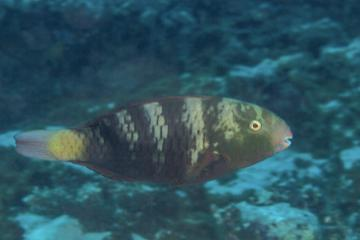Scaridae -Parrotfishes-: (11, 92, 297, 189)
